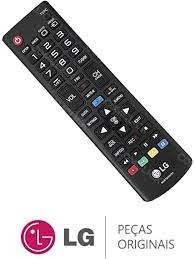remote control: (3, 0, 195, 204)
